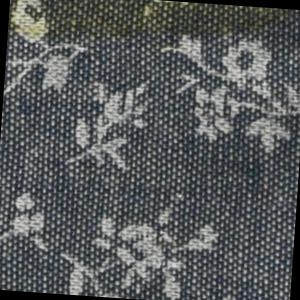Oil Stain: (9, 1, 298, 56)
